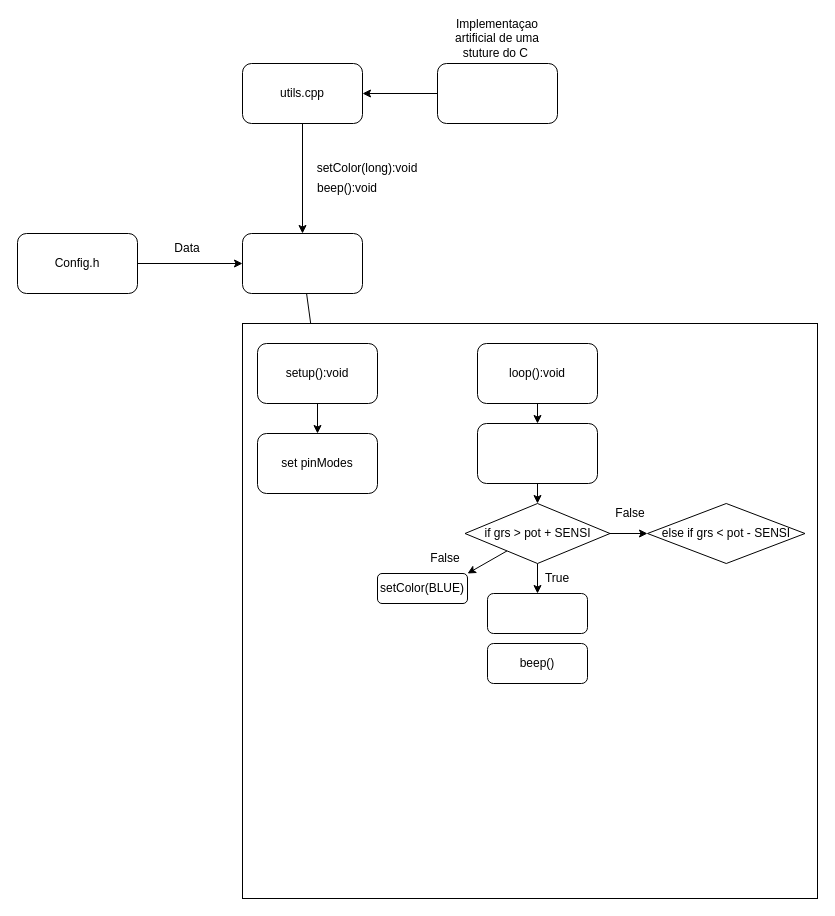
This 835x916 diagram has some shape labels left out. Here are the shapes that lost their labels. From the top down, the centre of each, then its label:
At [497,93]: "utils.h".
At [302,263]: "main.cpp".
At [537,453]: "get Info for grsSensor".
At [537,613]: "setColor(RED)".
